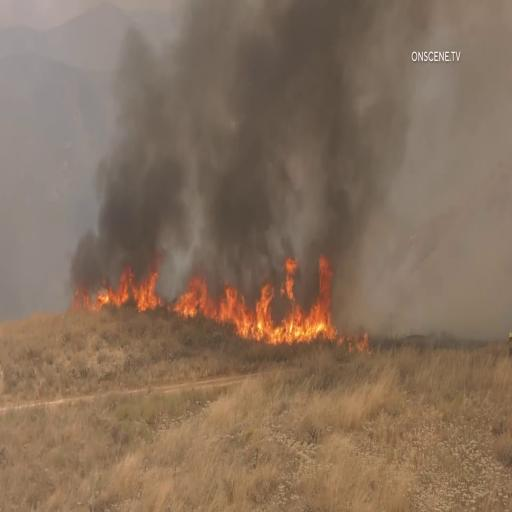fire: (175, 252, 277, 358), (69, 256, 163, 342), (281, 248, 352, 358)
smoke: (114, 8, 286, 248), (297, 16, 396, 245)
